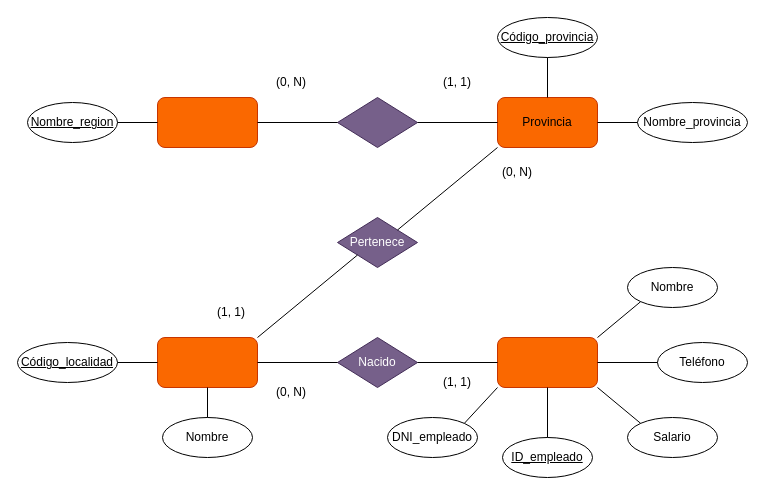
This 765x495 diagram has some shape labels left out. The shapes that lost their labels are listed below. From the top down, each one's centre as x and y in pixels, then its label:
[207,122]: Región
[377,122]: Integra
[207,362]: Localidad
[547,362]: Empleado
